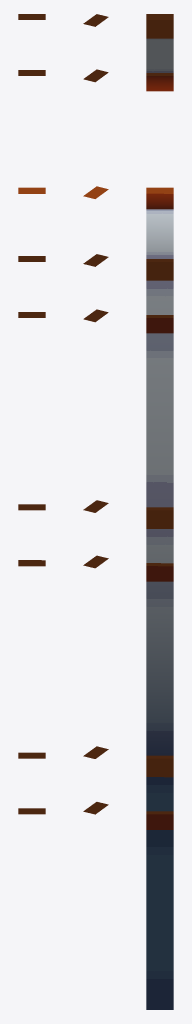
The picture shows the model from 3 angles, left to right: view 1: azimuth 90°, elevation 25°; view 2: azimuth 150°, elevation 25°; view 3: azimuth 270°, elevation 25°; orthographic projection.
Bounding box in the file's own units: 0.5264 × 40 × 1.
Materials: 2 (2 with a texture image).
